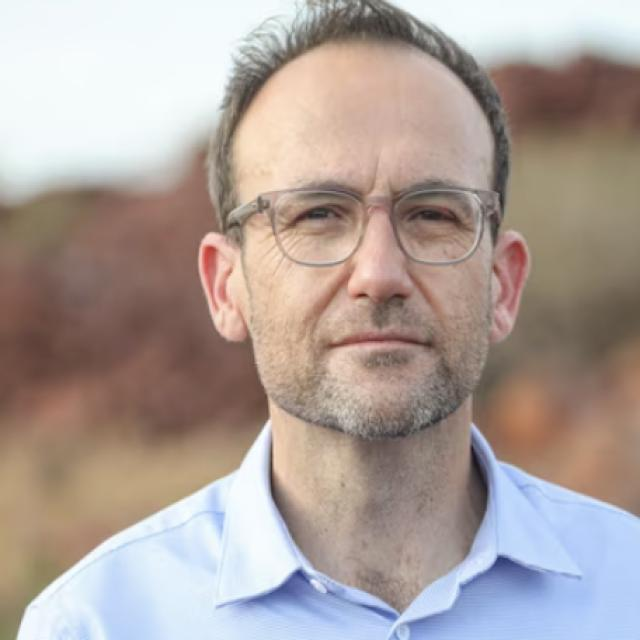natural: (204, 19, 532, 443)
